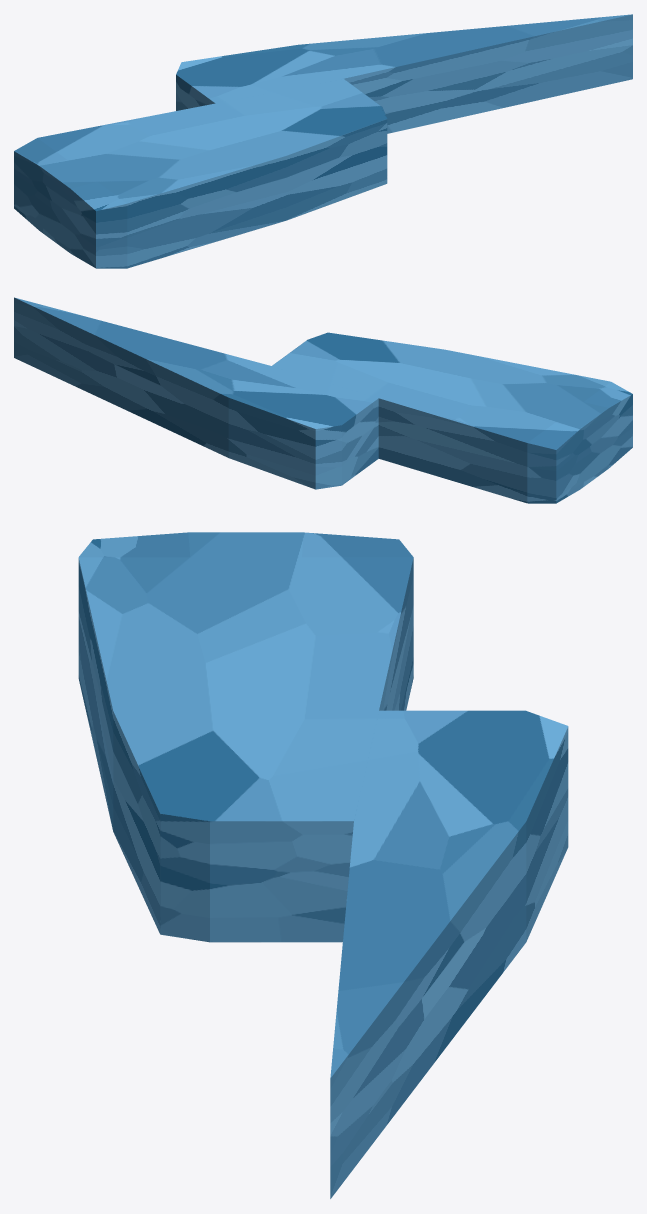
Rendered from tesla_ammo.glb.
The picture shows the model from 3 angles, top to bottom: view 1: azimuth 30°, elevation 25°; view 2: azimuth 150°, elevation 25°; view 3: azimuth 270°, elevation 25°; orthographic projection. The views are drawn at different scales.
Visible parts, largest first — view 1: Plane; view 2: Plane; view 3: Plane.
Boxes of the visible parts, x1,y1,x2,y2 form: Plane: [14, 14, 632, 268]; Plane: [14, 297, 632, 503]; Plane: [78, 532, 568, 1198].
Bounding box in the file's own units: 7.47 × 0.7707 × 2.83.
Materials: 1 (1 with a texture image).
